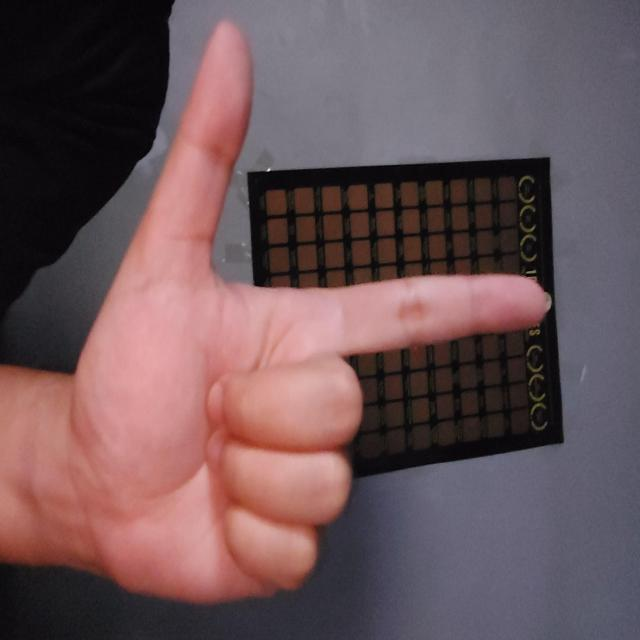L: (20, 85, 602, 558)
